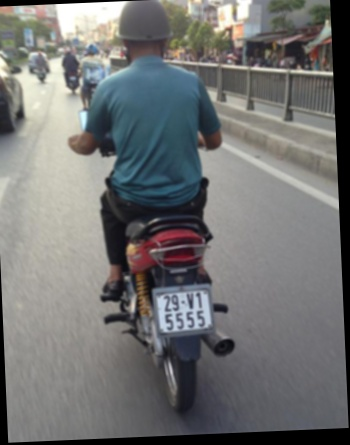Bien-so: (170, 302, 238, 359)
